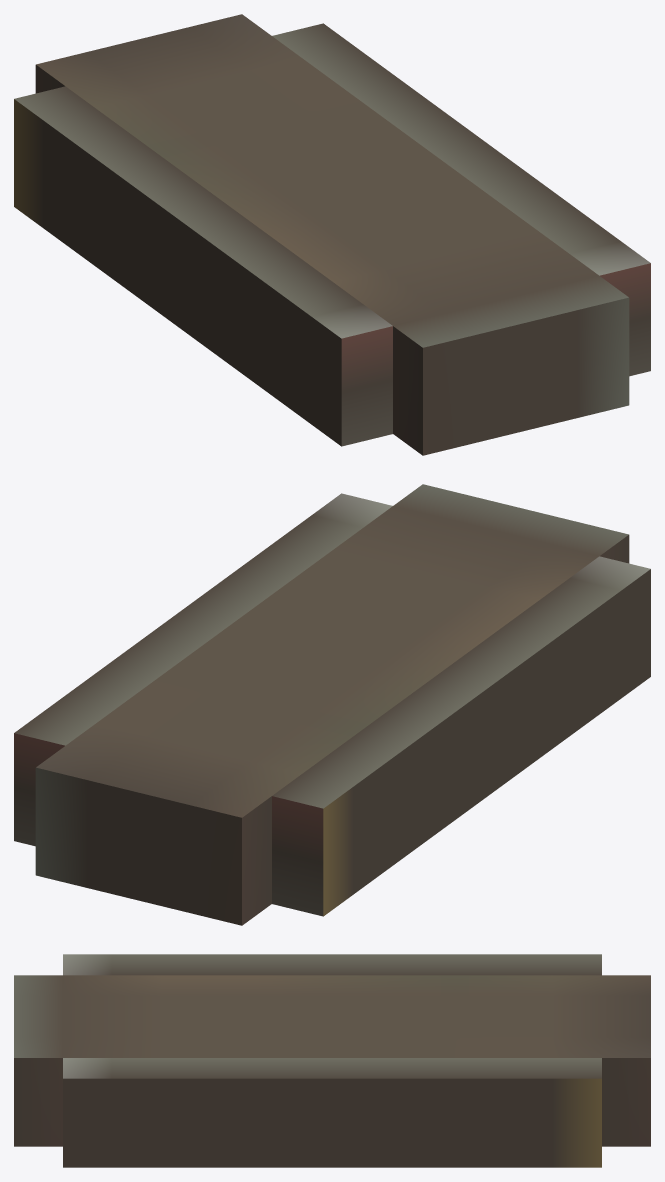
File: PillowDarkBrown_01.obj
3 views of the same model, one above another, from view 1: azimuth 30°, elevation 25°; view 2: azimuth 150°, elevation 25°; view 3: azimuth 270°, elevation 25° (orthographic). The views are drawn at different scales.
Parts seen in each view (by area): view 1: PillowDarkBrown_01; view 2: PillowDarkBrown_01; view 3: PillowDarkBrown_01.
Part boxes in pixels (box(x1,y1,x2,y2)): PillowDarkBrown_01: box(14, 14, 650, 455); PillowDarkBrown_01: box(14, 484, 650, 925); PillowDarkBrown_01: box(14, 954, 650, 1167).
Size of the model in its own units: 0.3 by 0.1 by 0.65.
